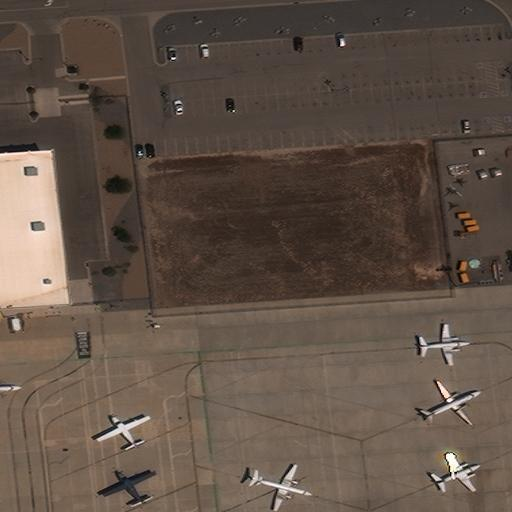Medium Civil Transport: (251, 465, 313, 511), (423, 381, 480, 423), (96, 414, 147, 448), (102, 470, 153, 504), (0, 371, 23, 409)
Small Civil Transport: (417, 323, 470, 364), (436, 453, 481, 488)
